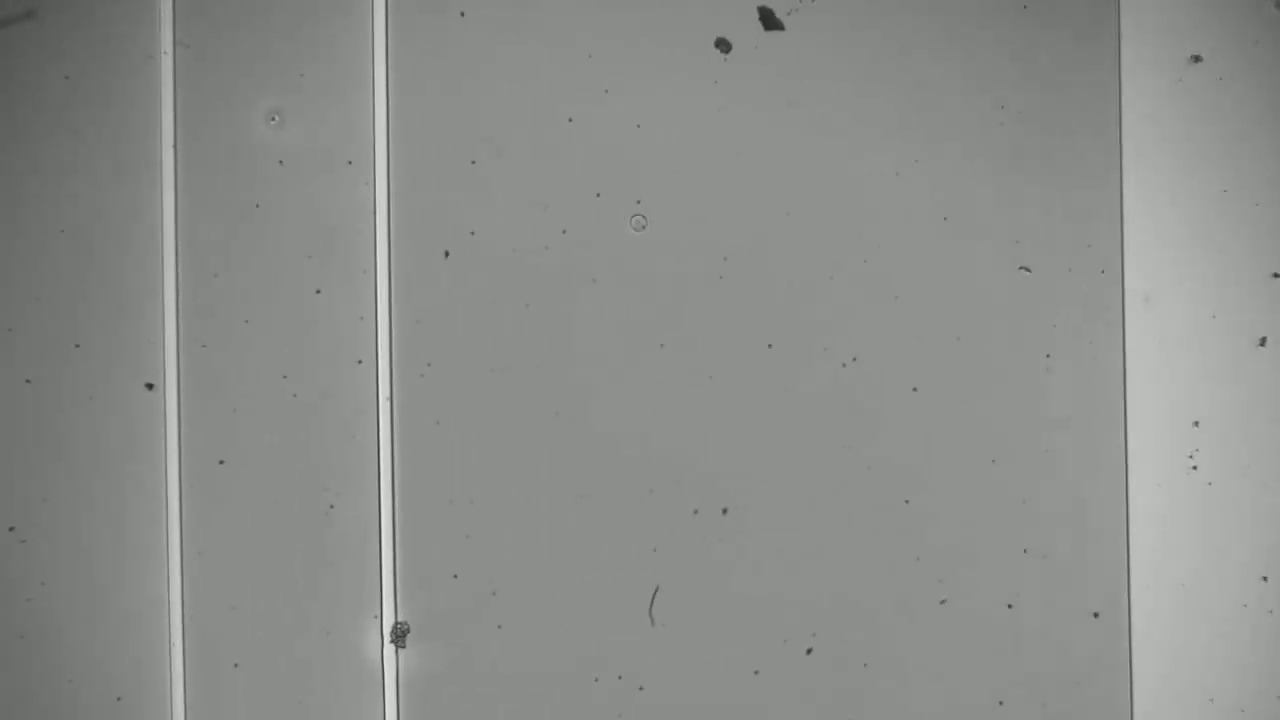stains_enbedded: (375, 616, 422, 655)
